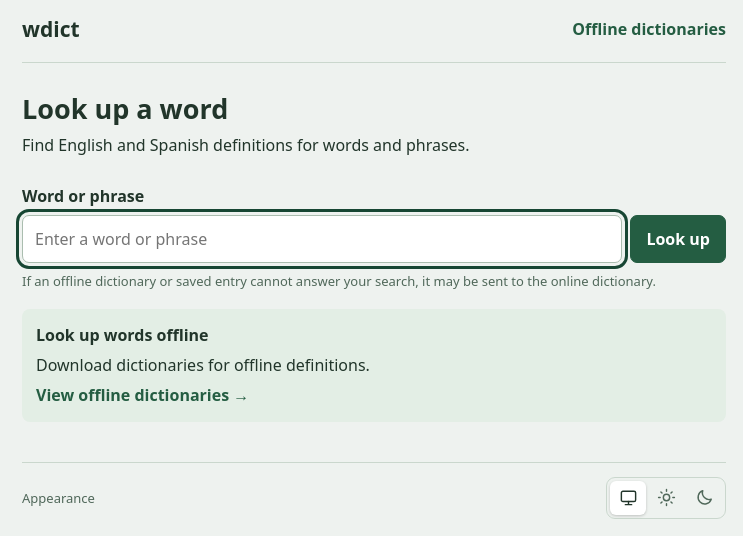
it: lookup and offline dictionary UI › given_metadata_failure_when_dictionary_opened_then_error_can_be_retried
What coordinates should you click on to do the following:
click the button "Offline dictionaries"
I would click on:
 (649, 29)
Its box is left=572, top=17, right=726, bottom=42.
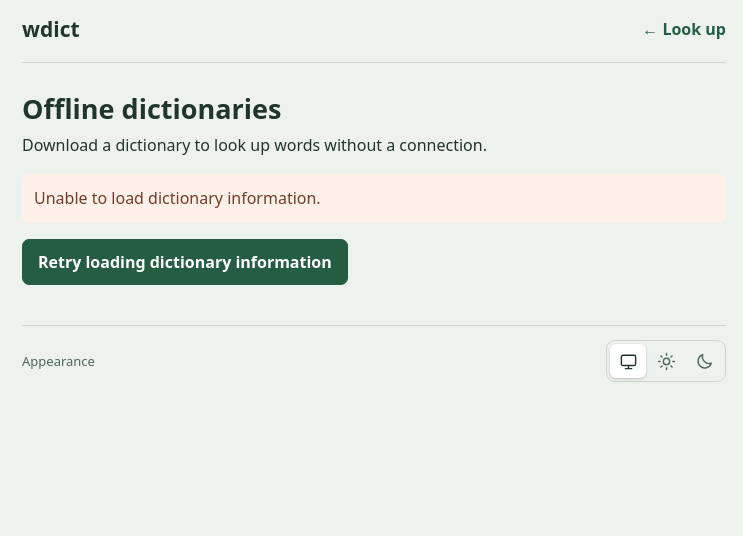
Expected: the text "Unable to load dictionary information." is shown, left=22, top=174, right=726, bottom=222
What coordinates should you click on to do the following:
click the button "Retry loading dictionary information"
I would click on:
 (185, 262)
Its box is left=22, top=238, right=348, bottom=285.
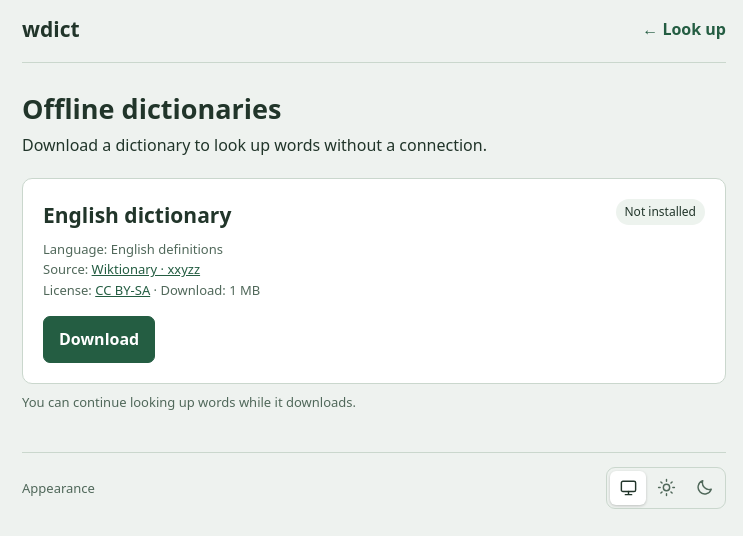
Expected: the heading "English dictionary" is shown, left=43, top=199, right=231, bottom=231
Expected: the text "Unable to load dictionary information." is gone
